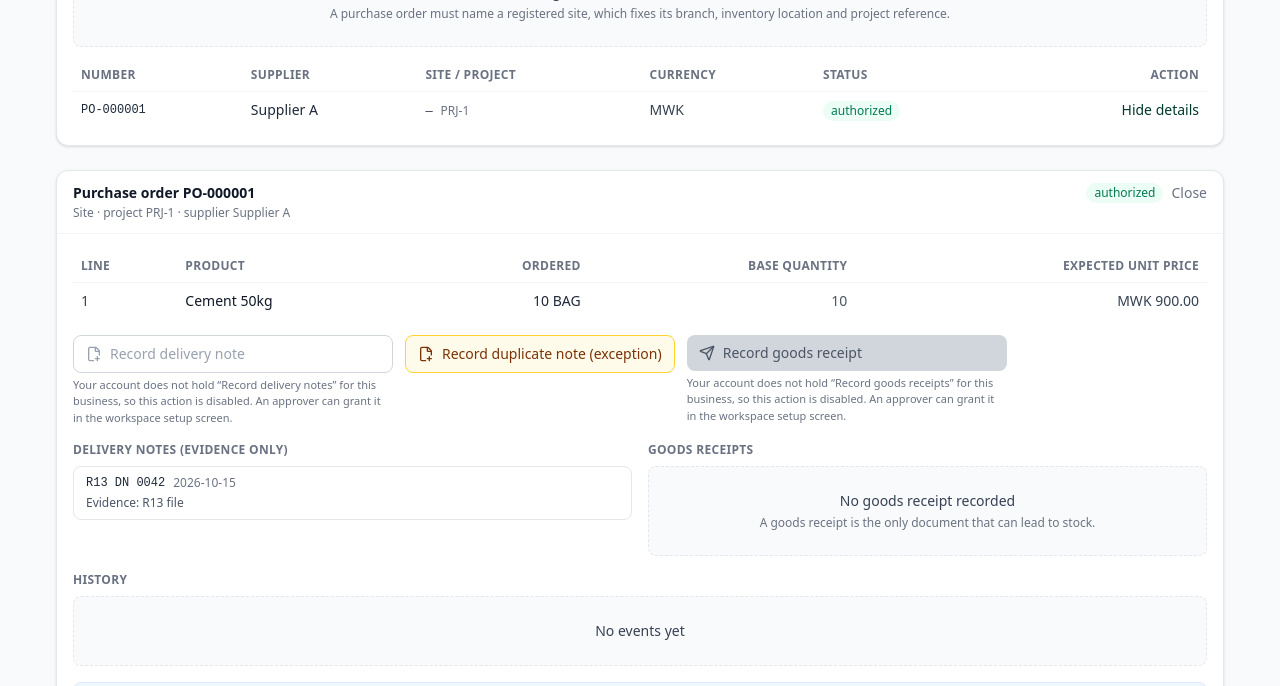
Test: delivery-note exception screen › refuses to submit without the reason, the evidence and the named note, and sends nothing
(page scrolled)
Click the button "Record duplicate note (exception)" at (540, 354), box [405,334,675,372]
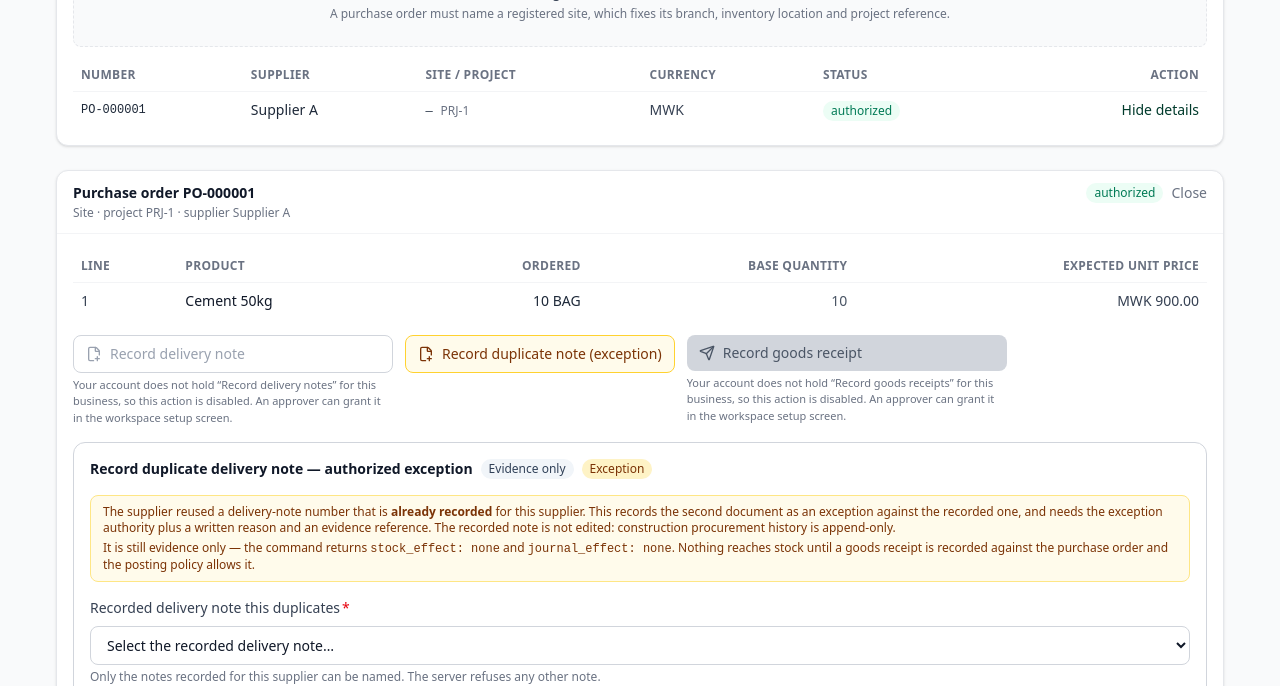
# Everything but the evidence reference: still refused.
Select "R13 DN 0042 · 2026-10-15 · evidence R13 file" in the dropdown labelled "Recorded delivery note this duplicates" at (640, 646), box [90,626,1190,665]
(page scrolled)
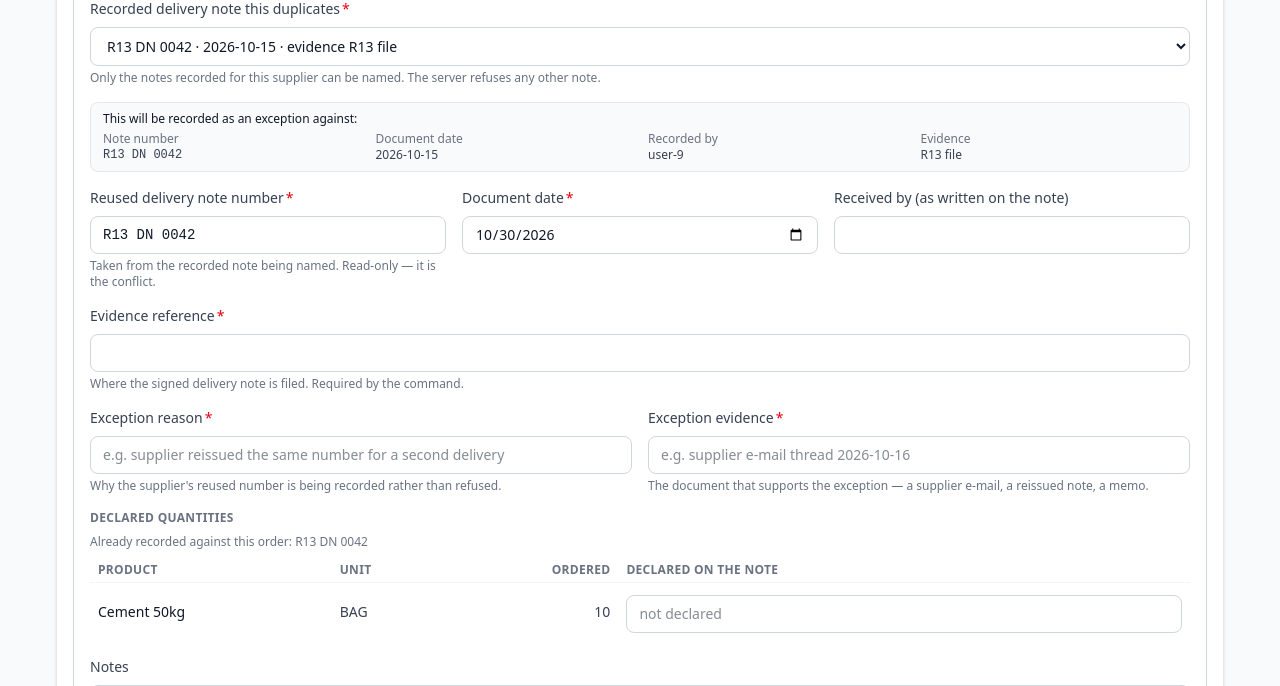
Type "file" into the field labelled "Evidence reference" at (640, 353), box [90,334,1190,372]
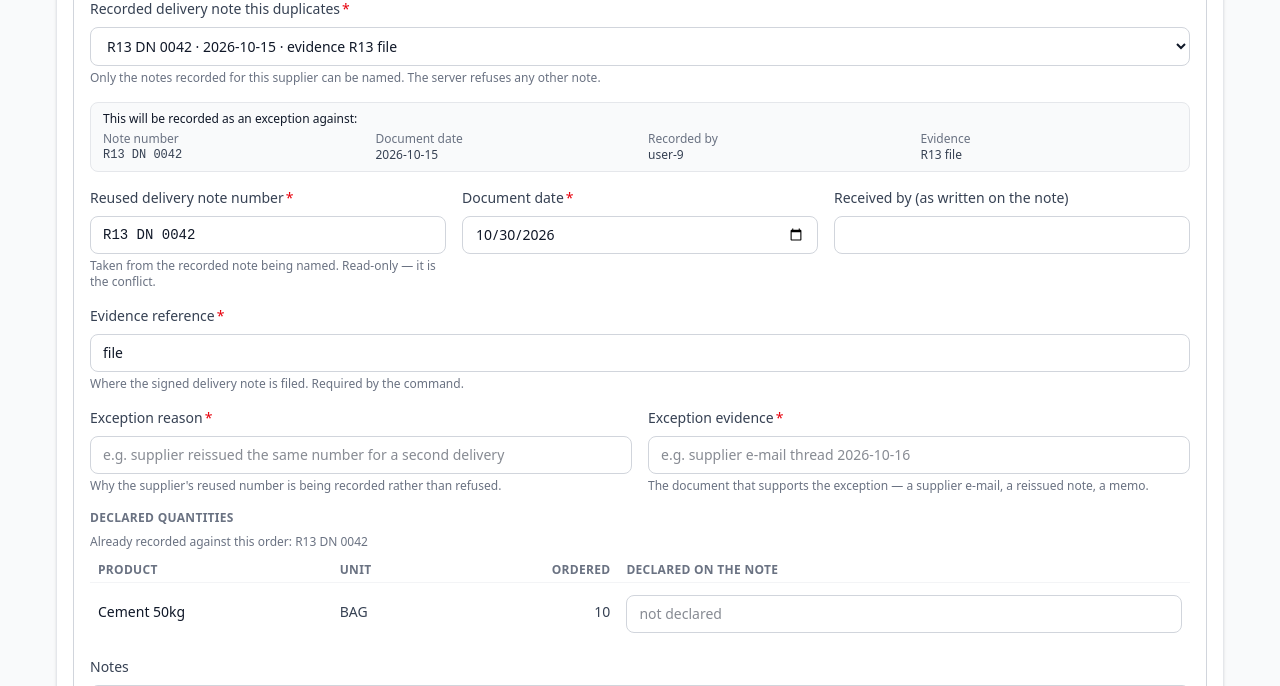
Type "reissued" into the field labelled "Exception reason" at (361, 455), box [90,436,632,474]
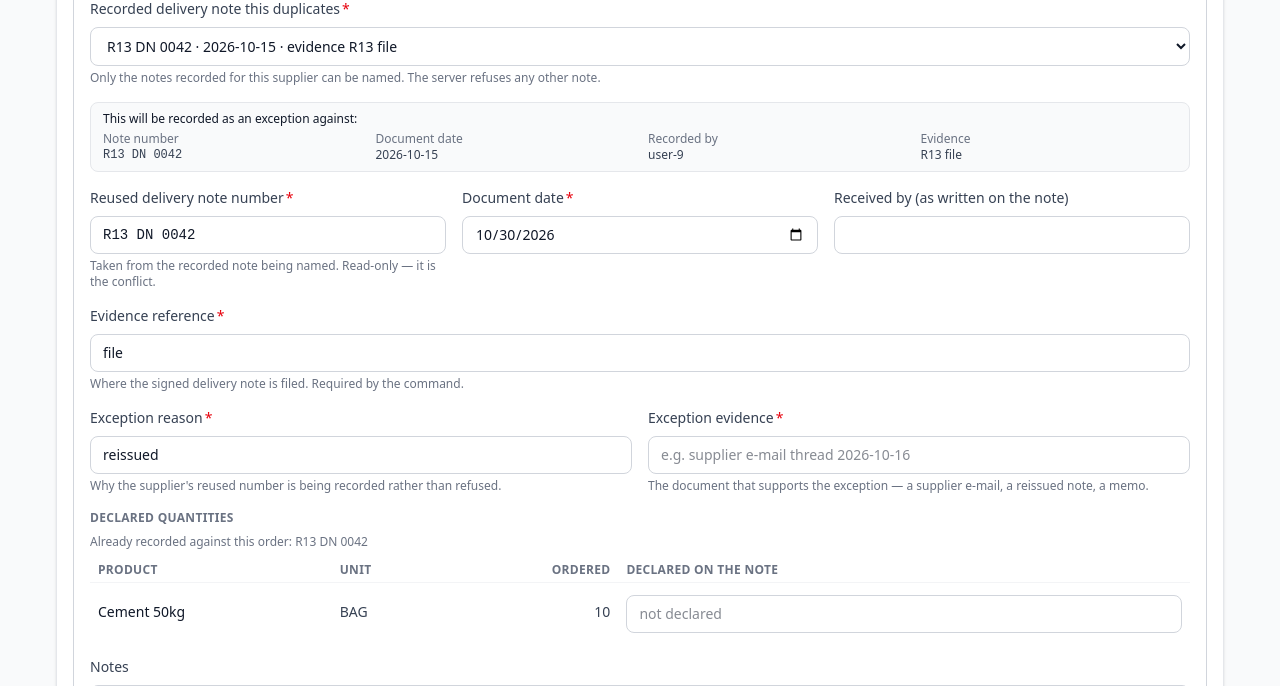
Type "1" into the number field named "Declared quantity for line 1" at (904, 614), box [626,595,1182,633]
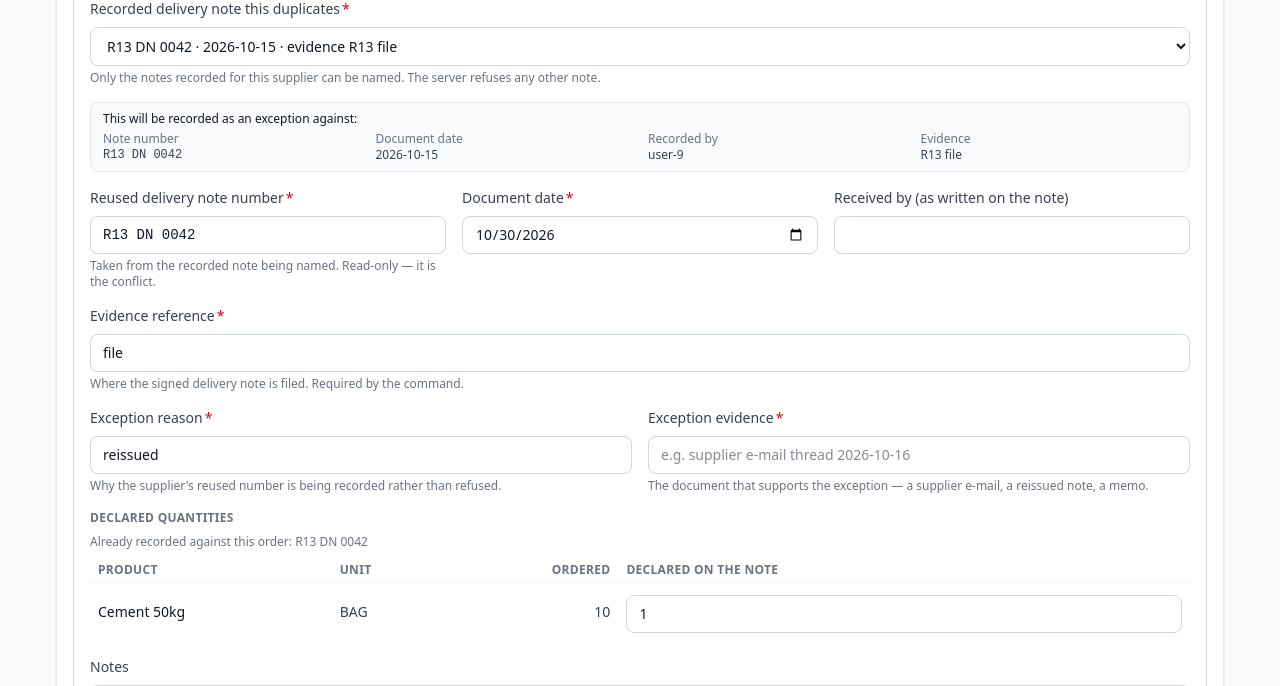
# The missing piece is the exception evidence.
Type "e-mail" into the field labelled "Exception evidence" at (919, 455), box [648,436,1190,474]
(page scrolled)
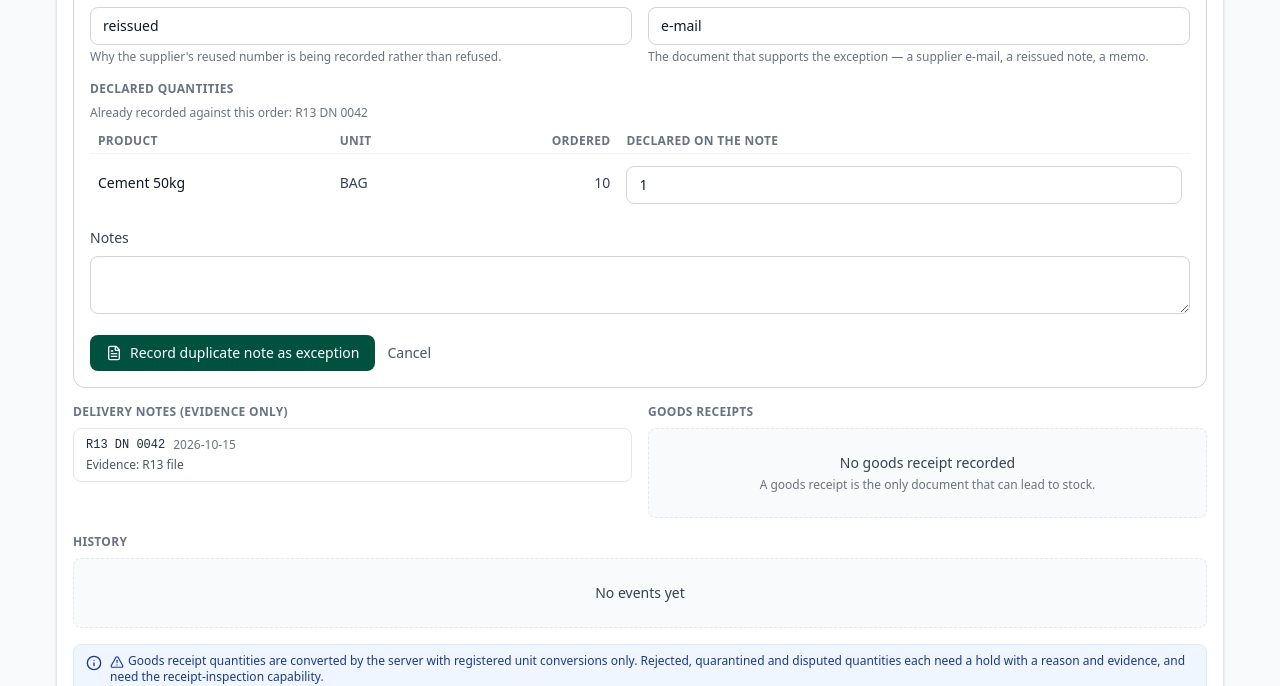
Result: the button "Record duplicate note as exception" is enabled at [90,335,376,371]
